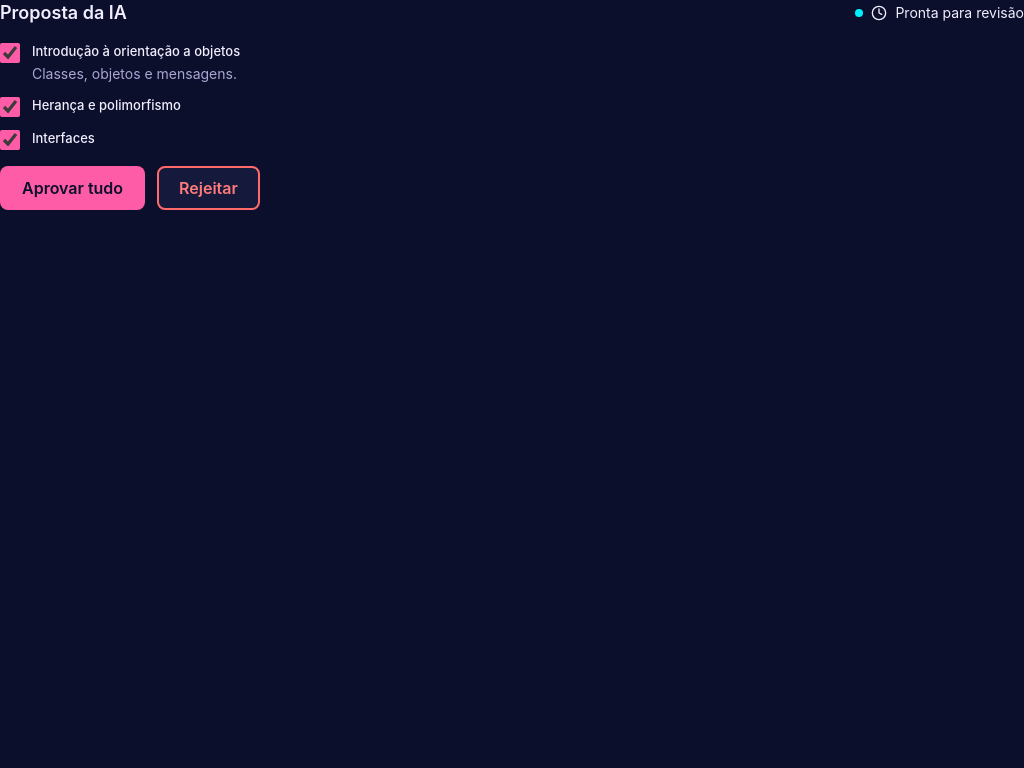
Scenario: 006/US9-3 AiProposalReview: aprovar, aprovar em parte e rejeitar, com confirmação › Aprovar selecionados só aparece com um subconjunto próprio e decide com os ids marcados
Click the checkbox labelled "Herança e polimorfismo" at (10, 107), box [0, 97, 20, 117]
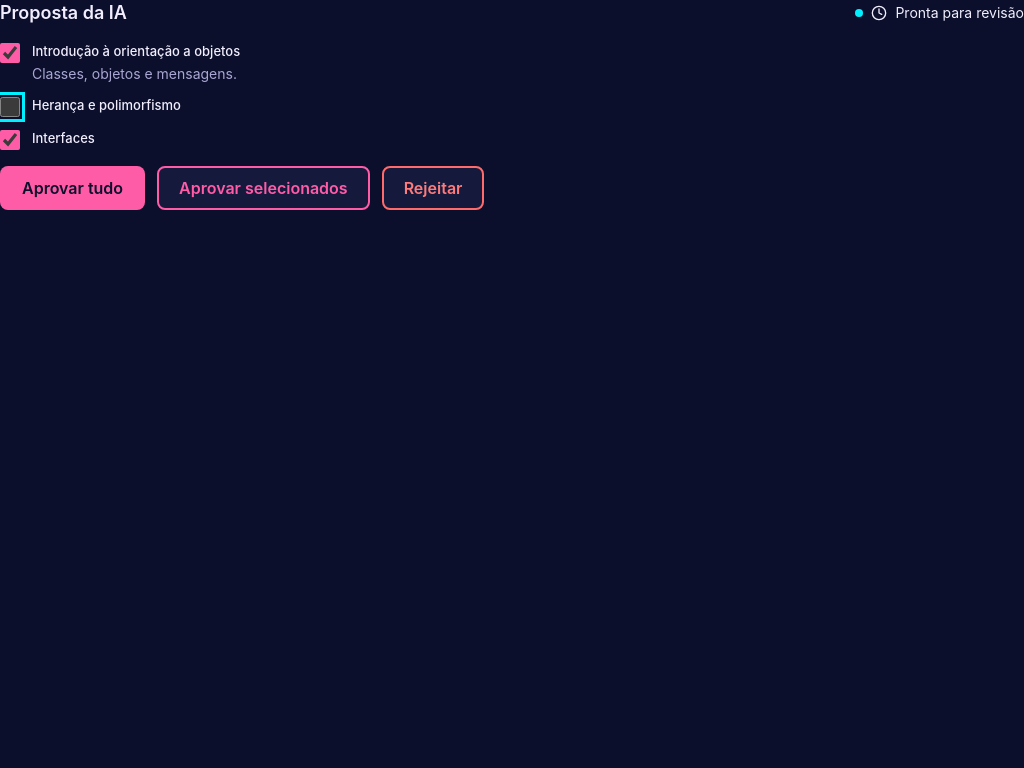
Click the button "Aprovar selecionados" at (263, 188), box [157, 166, 370, 210]
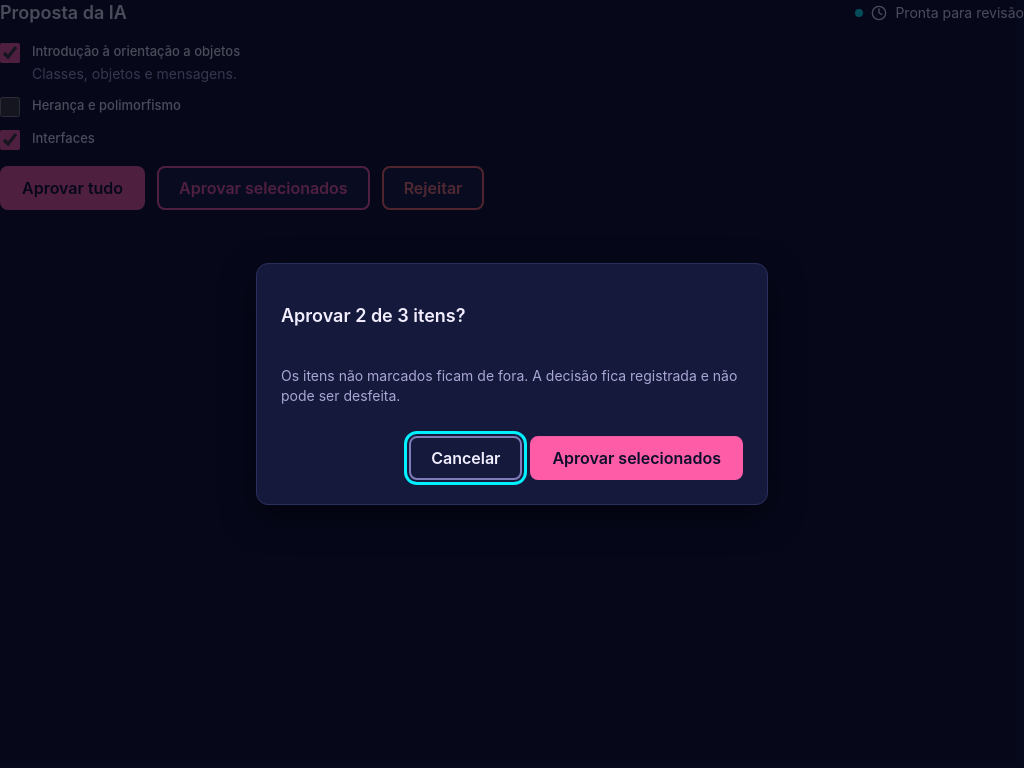
Expected: the dialog shows "Aprovar 2 de 3 itens?", [281, 305, 466, 326]
Click the button "Aprovar selecionados" at (637, 458), box [530, 436, 743, 480]
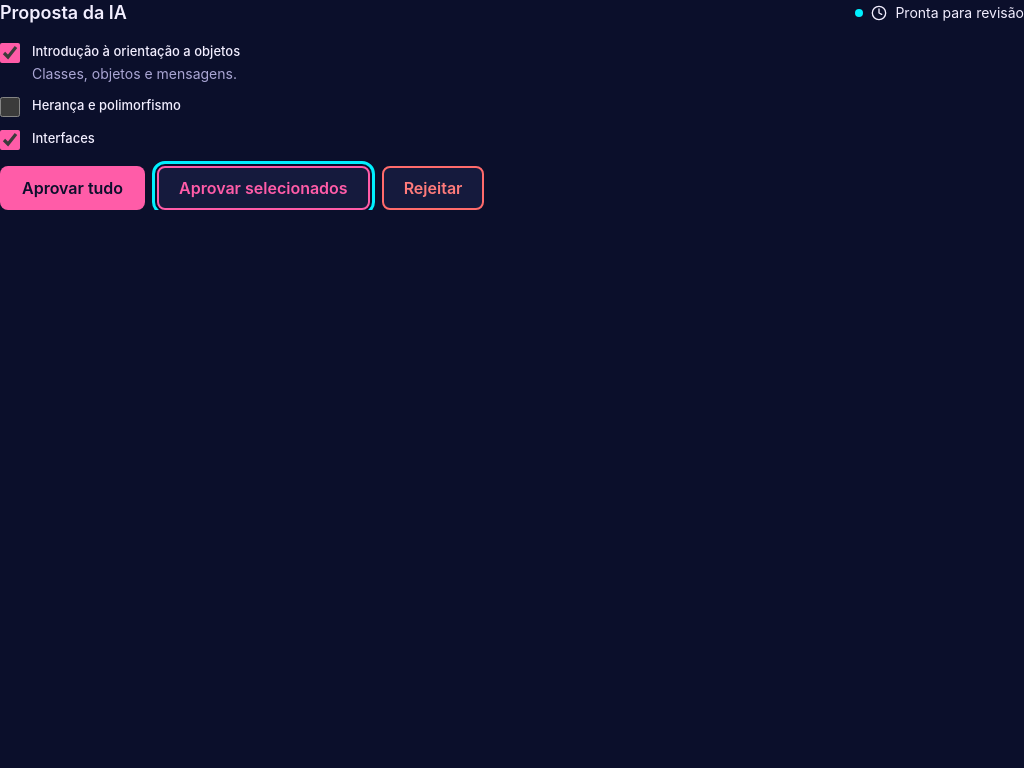
Click the checkbox labelled "Introdução à orientação a objetos" at (10, 53), box [0, 43, 20, 63]
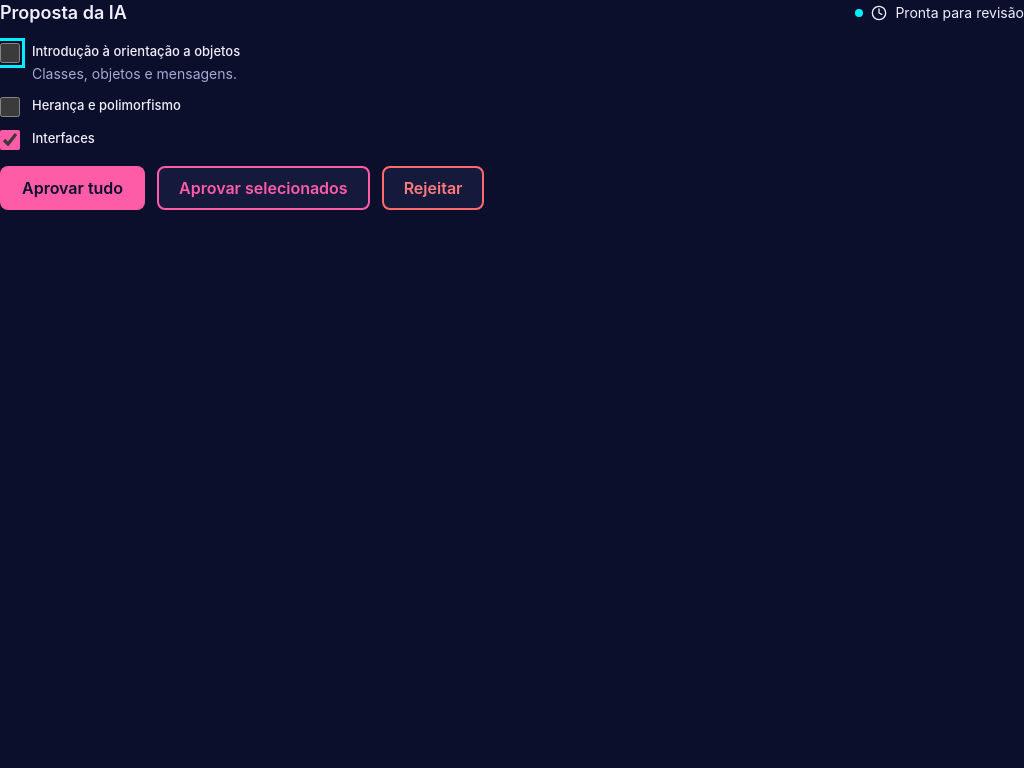
Click the checkbox labelled "Interfaces" at (10, 140), box [0, 130, 20, 150]
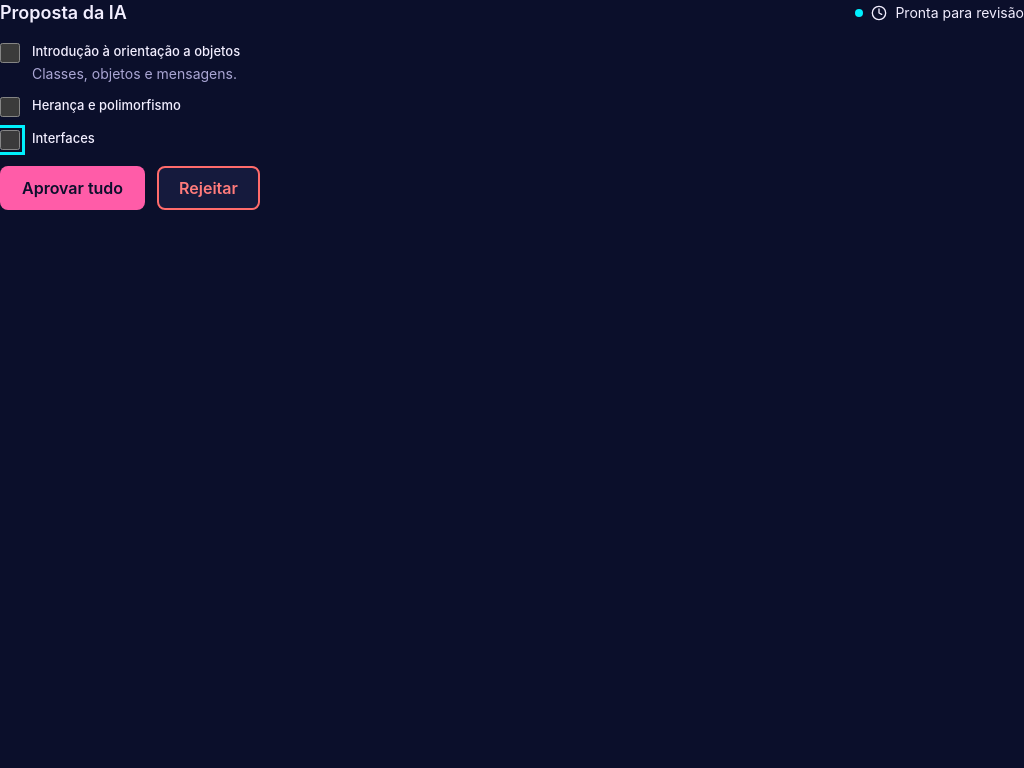
Expected: the button "Aprovar selecionados" is gone
